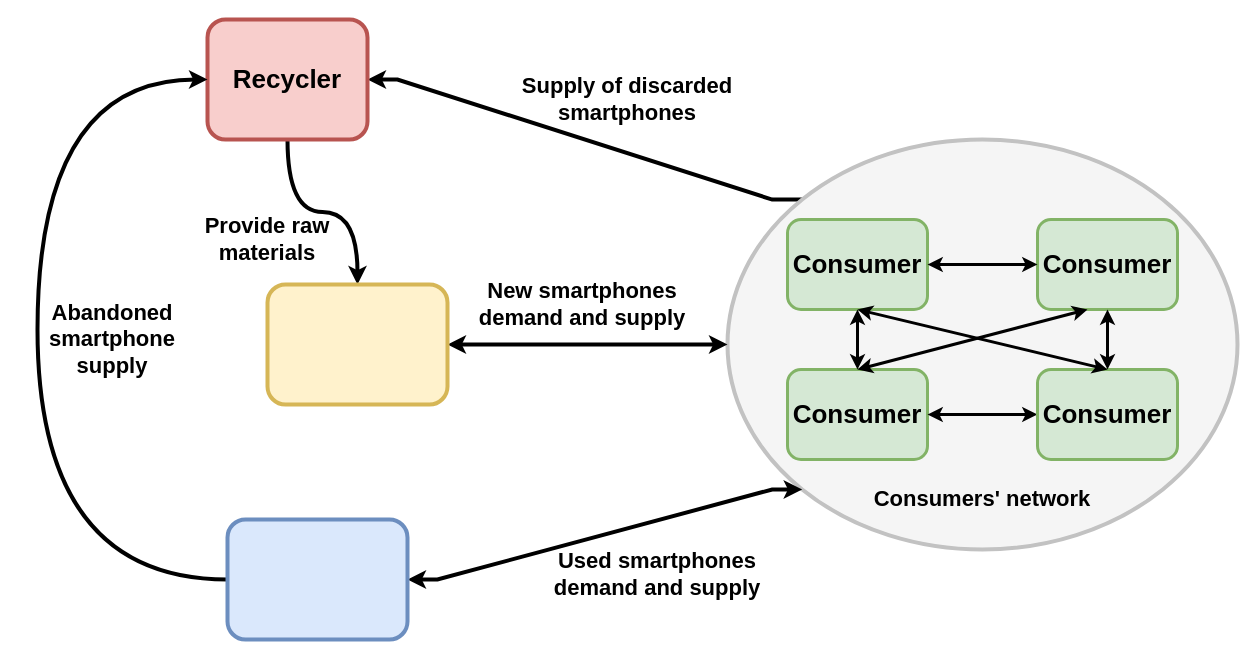
Some shapes in this 1256 by 658 pixel diagram are drawn without their labels. The shapes that lost their labels are listed below. From the top down, each one's box as (x1, y1, x2, y2) in pixels, then its label:
(265, 282, 449, 406): Manufacturer
(225, 517, 409, 641): Second-hand Store
